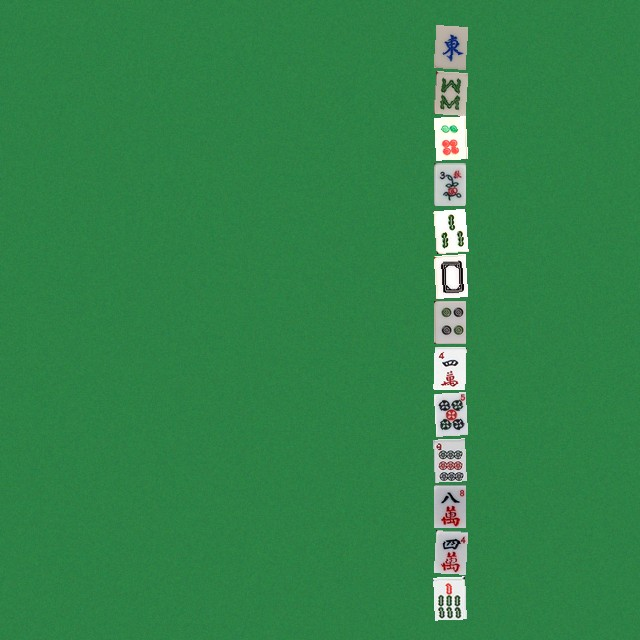tile: (433, 24, 465, 67), (433, 70, 465, 113), (433, 116, 465, 159), (433, 162, 465, 205), (433, 208, 465, 251), (433, 254, 465, 297), (433, 300, 465, 343), (433, 346, 465, 389), (433, 392, 465, 435), (433, 438, 465, 481), (433, 484, 465, 527), (433, 530, 465, 573), (433, 576, 465, 619)
